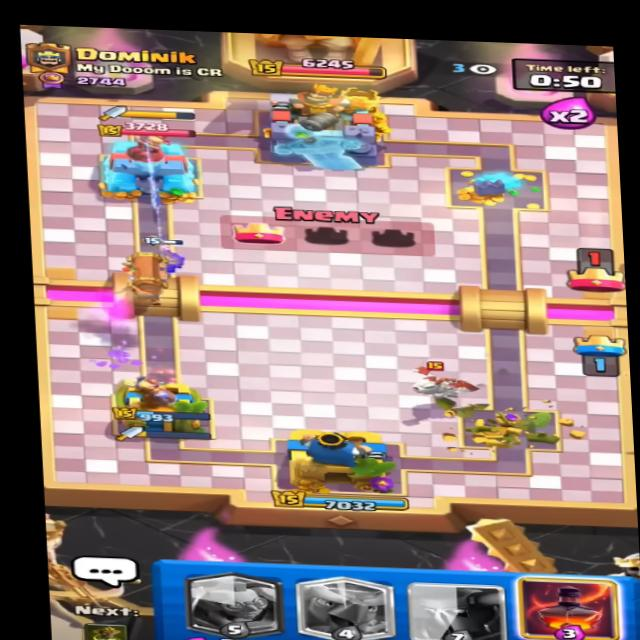skeleton-dragon: (405, 361, 476, 406)
